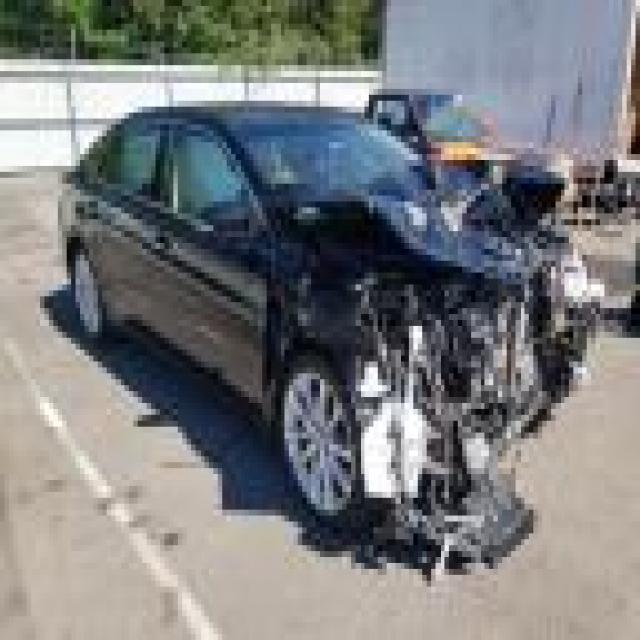severe: (258, 125, 640, 545)
